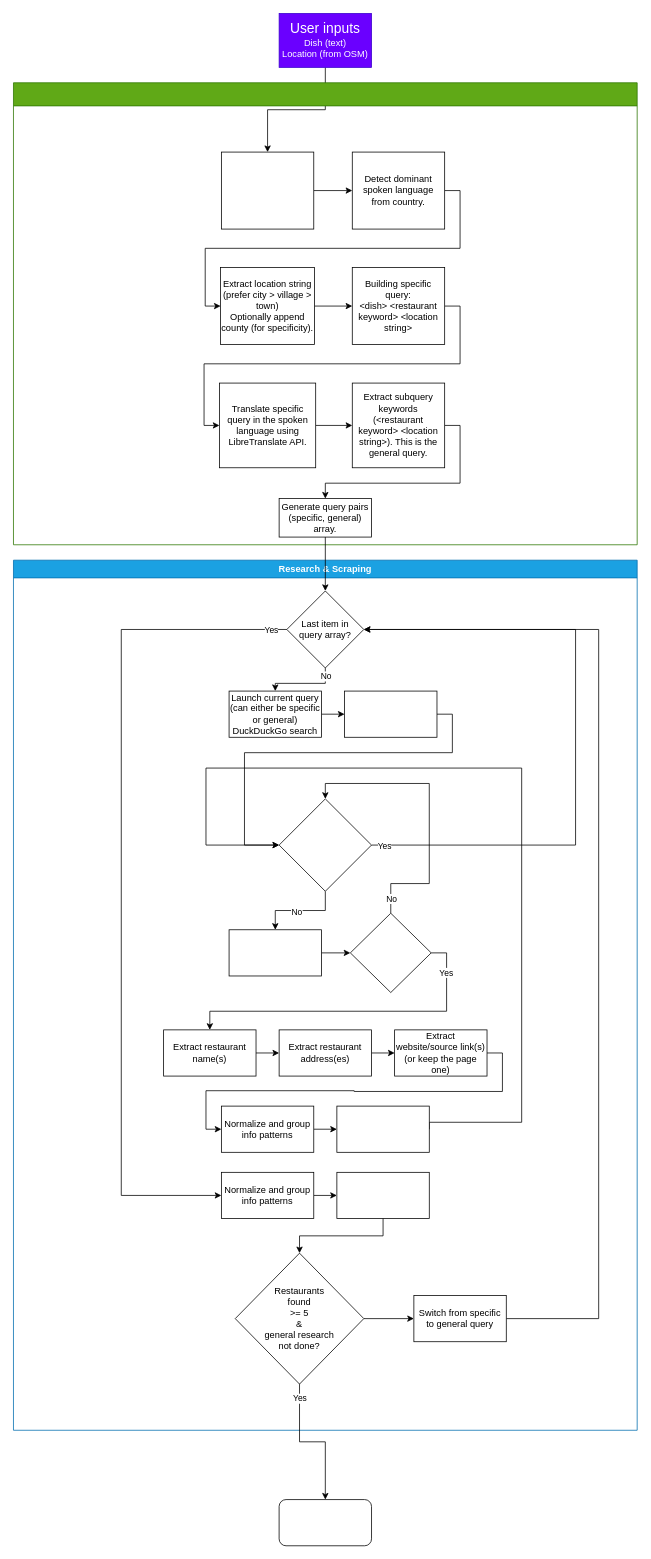
Some shapes in this 651 by 1559 pixel diagram are drawn without their labels. Here are the shapes that lost their labels. From the top down, the box of each, then its label:
(221, 151, 314, 229): Extract country from OSM response.
(13, 82, 637, 545): Query handling
(344, 690, 437, 737): Fetch up to 3 result pages (if available)
(278, 798, 372, 891): Last page in fetched result pages?
(228, 929, 321, 976): Check for dish keyword(s)
(350, 912, 431, 993): Keyword dish found?
(336, 1105, 429, 1152): Push preliminary results to user
(336, 1172, 429, 1219): Push results to user
(278, 1499, 372, 1546): STOP
